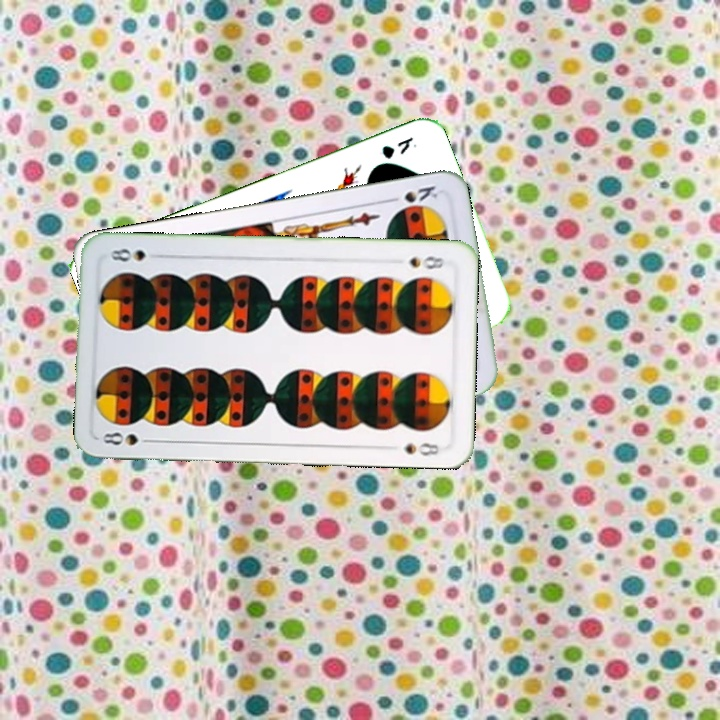GK: (377, 132, 415, 162)
S8: (99, 428, 158, 448), (405, 251, 448, 272)
SK: (383, 181, 440, 205)
